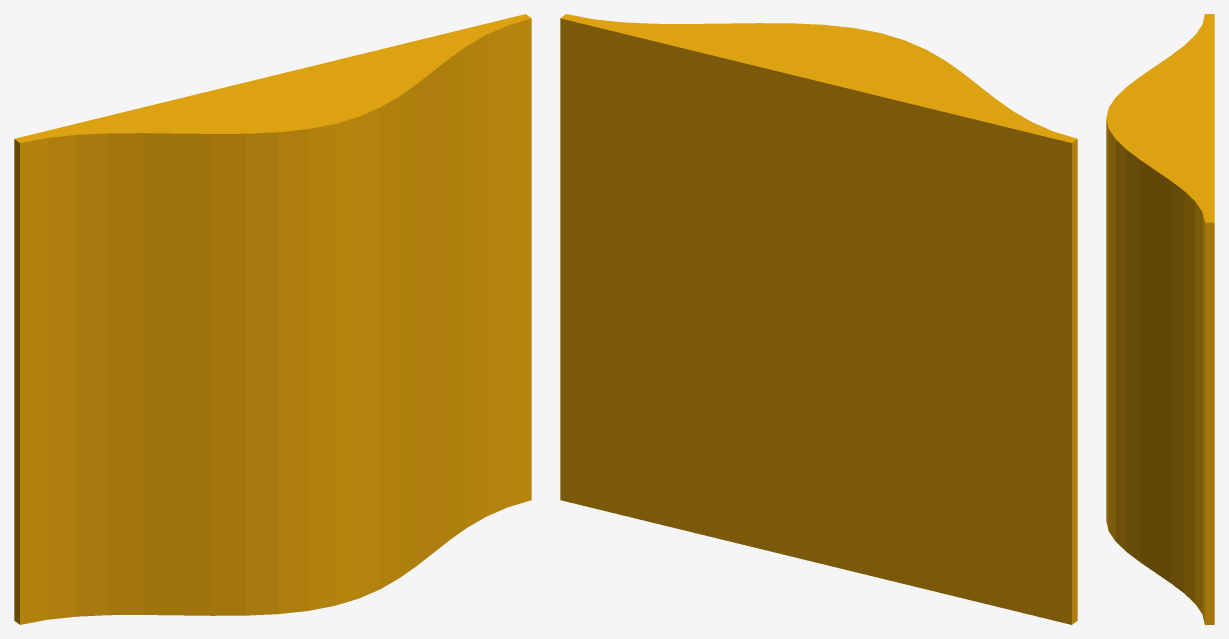
File: bump_0_stripe_0.obj
The picture shows the model from 3 angles, left to right: view 1: azimuth 30°, elevation 25°; view 2: azimuth 150°, elevation 25°; view 3: azimuth 270°, elevation 25°; orthographic projection. The views are drawn at different scales.
Visible parts, largest first — view 1: curved_bump; view 2: curved_bump; view 3: curved_bump.
Boxes of the visible parts, left/top/right/bottom form: curved_bump: left=14, top=14, right=531, bottom=624; curved_bump: left=560, top=14, right=1077, bottom=624; curved_bump: left=1106, top=14, right=1214, bottom=624.
Bounding box in the file's own units: 0.05 × 0.045 × 0.011.
